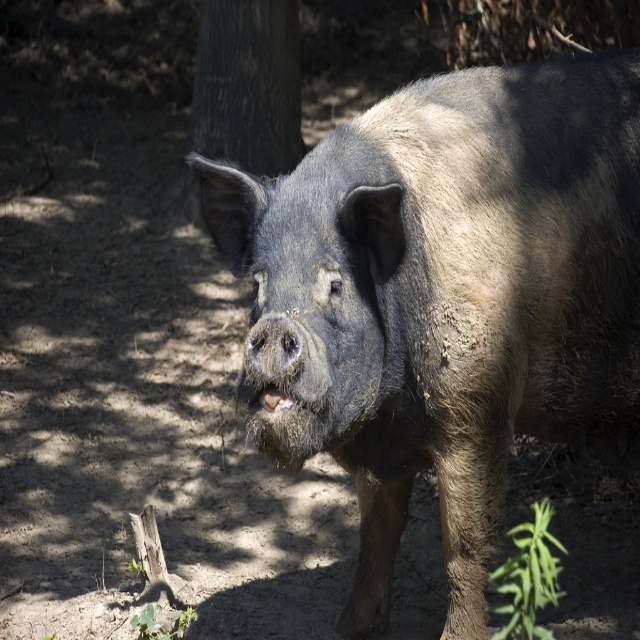Pig: (184, 54, 640, 640)
